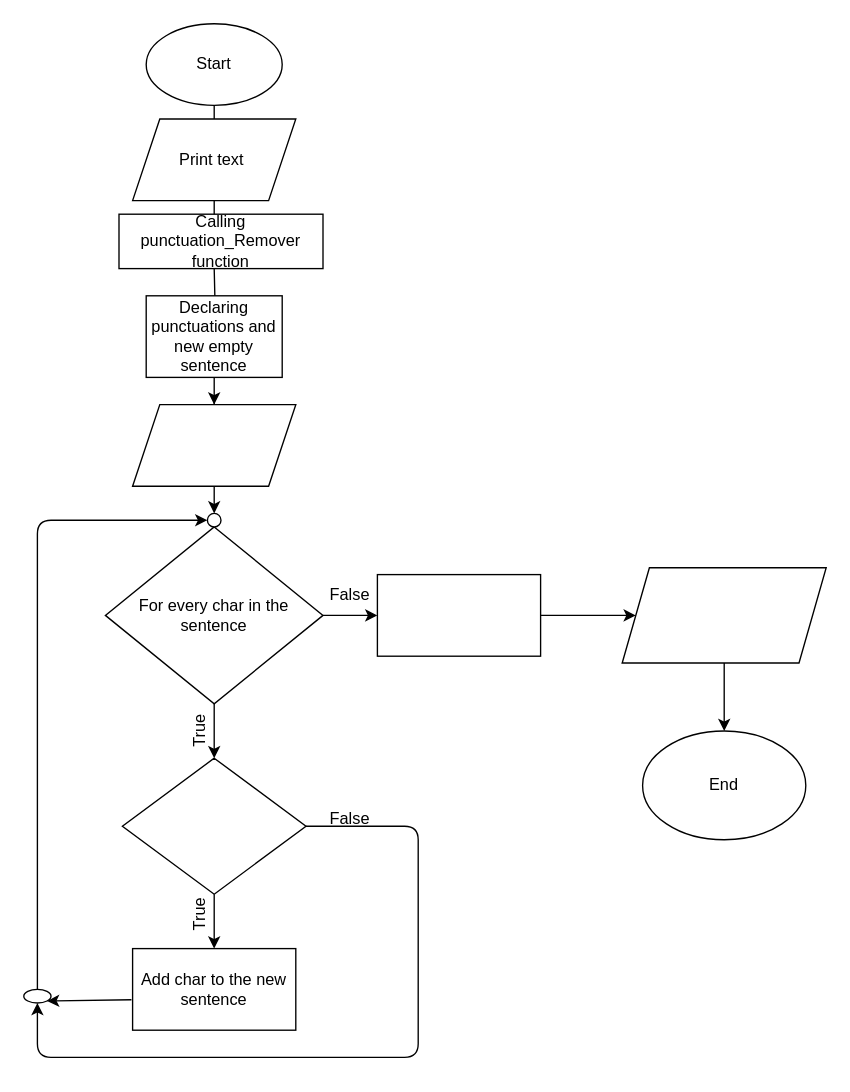
Some shapes in this 850 by 1092 pixel diagram are drawn without their labels. The shapes that lost their labels are listed below. From the top down, each one's centre as x and y in pixels, then its label:
At (x=213, y=444): "Read sentence".
At (x=458, y=614): "Return with the new sentence".
At (x=723, y=614): "Print new sentence".
At (x=213, y=825): "If char not in punctuations".
